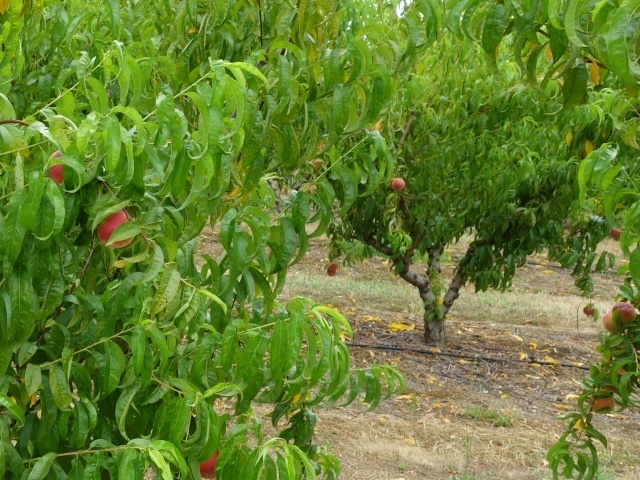peach: (95, 203, 140, 250), (195, 442, 226, 479), (46, 148, 72, 186), (587, 388, 615, 418), (598, 309, 625, 337), (610, 298, 637, 325)
